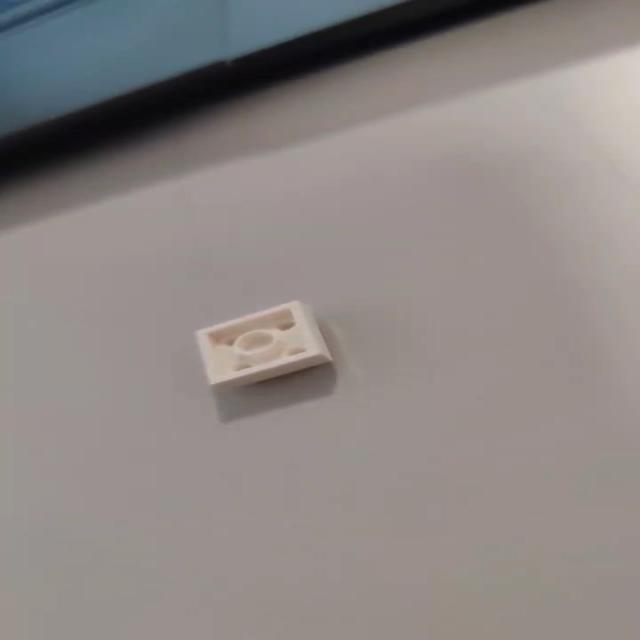C2x2x0: (193, 304, 341, 390)
